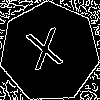X: (24, 27, 68, 80)
